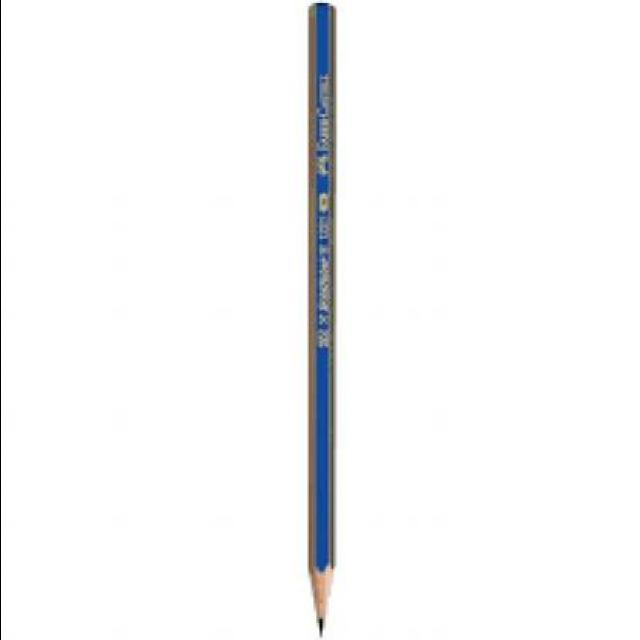Pencil: (298, 540, 351, 640)
